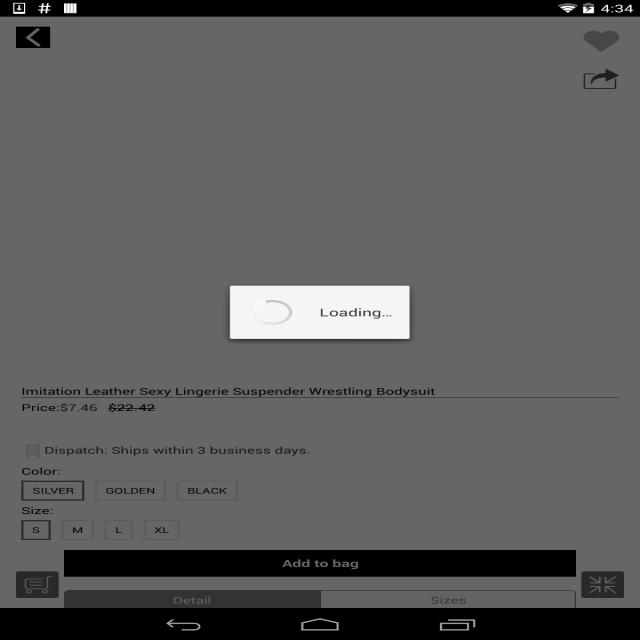Button: (64, 550, 576, 577)
ImageView: (0, 16, 640, 416), (579, 27, 624, 55), (579, 65, 624, 93), (16, 571, 59, 598), (581, 571, 624, 598), (16, 27, 50, 48), (22, 444, 44, 458)
RadioButton: (64, 590, 320, 610), (320, 590, 576, 610)
TextView: (21, 385, 619, 397), (44, 444, 338, 456), (95, 480, 166, 500), (22, 480, 84, 500), (176, 480, 238, 500), (143, 520, 180, 540), (61, 520, 94, 540), (21, 520, 51, 540), (104, 520, 133, 540), (108, 401, 155, 413), (21, 465, 61, 477), (21, 401, 60, 413), (59, 401, 98, 413), (22, 504, 54, 517)
